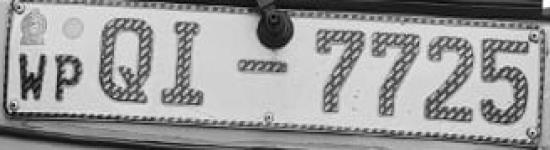-: (234, 55, 289, 80)
2: (424, 28, 477, 127)
5: (477, 34, 535, 129)
7: (308, 20, 367, 118), (368, 26, 424, 120)
I: (161, 14, 220, 112)
P: (52, 50, 85, 104)
Q: (95, 14, 158, 111)
W: (13, 50, 48, 104)
